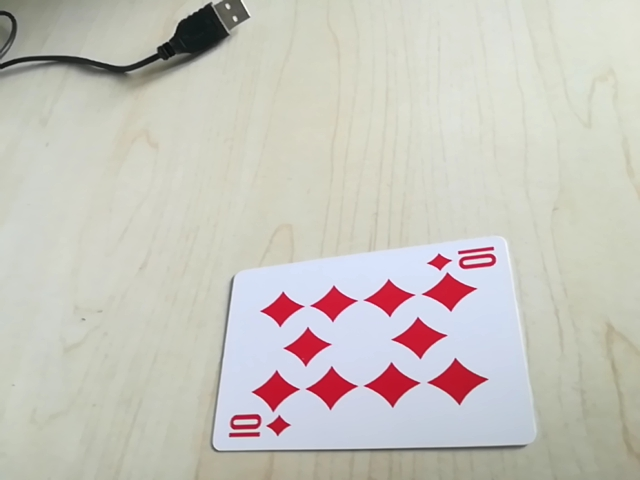fk 10: (426, 240, 503, 276), (223, 411, 294, 447)
